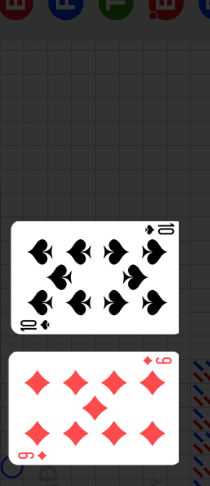10S: (142, 222, 176, 237)
9D: (17, 450, 49, 461)
